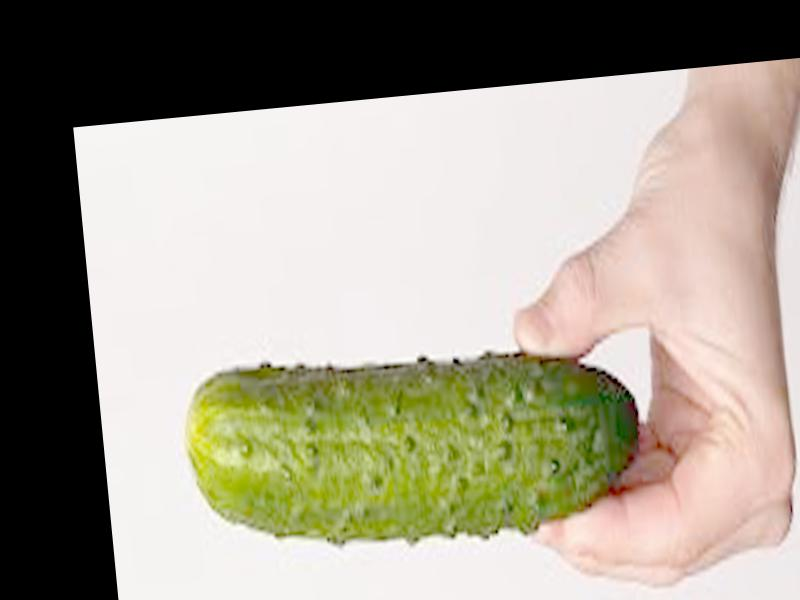Cucumber: (183, 344, 649, 562)
